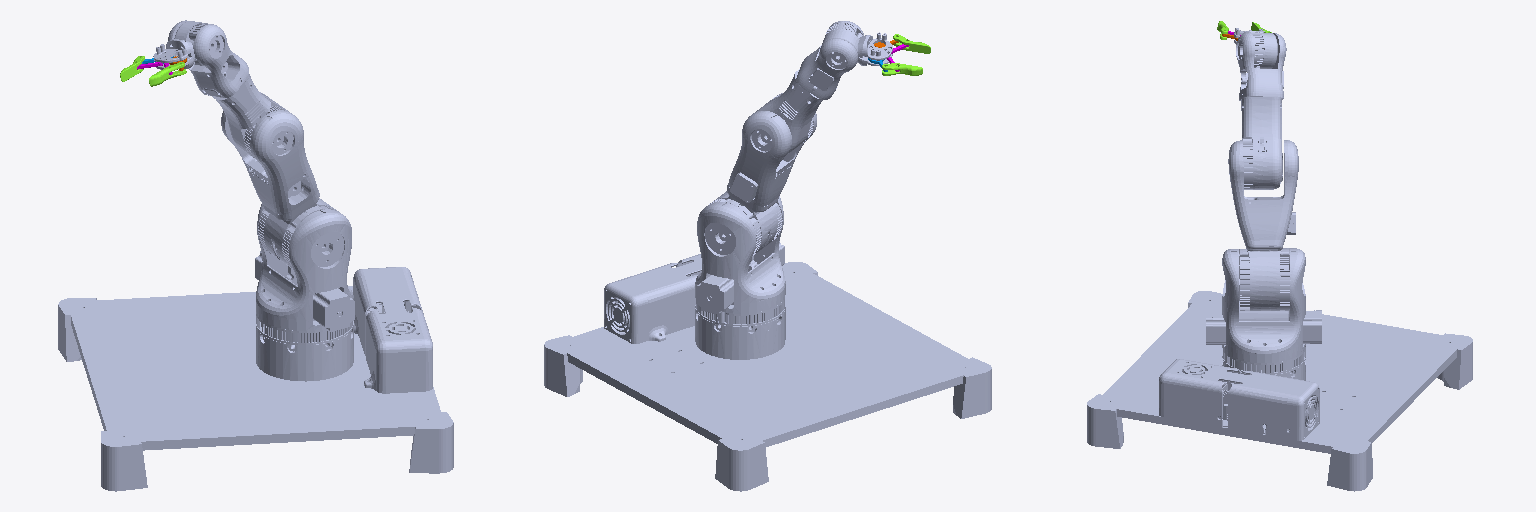
The robot description file, URDF, robot "robot_5A_urdf":
<?xml version="1.0" encoding="utf-8"?>
<!-- This URDF was automatically created by SolidWorks to URDF Exporter! Originally created by [author] ([email redacted]) 
     Commit Version: 1.6.0-4-g7f85cfe  Build Version: 1.6.7995.38578
     For more information, please see http://wiki.ros.org/sw_urdf_exporter -->
<robot
  name="robot_5A_urdf">
  <link
    name="base_link">
    <inertial>
      <origin
        xyz="-0.07796 0.1305 0.12414"
        rpy="0 0 0" />
      <mass
        value="14.597" />
      <inertia
        ixx="0.69038"
        ixy="0.055653"
        ixz="-0.0081945"
        iyy="0.48743"
        iyz="-0.025908"
        izz="0.72286" />
    </inertial>
    <visual>
      <origin
        xyz="0 0 0"
        rpy="0 0 0" />
      <geometry>
        <mesh
          filename="package://robot_5A_urdf/meshes/base_link.STL" />
      </geometry>
      <material
        name="">
        <color
          rgba="0.79216 0.81961 0.93333 1" />
      </material>
    </visual>
    <collision>
      <origin
        xyz="0 0 0"
        rpy="0 0 0" />
      <geometry>
        <mesh
          filename="package://robot_5A_urdf/meshes/base_link.STL" />
      </geometry>
    </collision>
  </link>
  <link
    name="Link_1">
    <inertial>
      <origin
        xyz="-0.037838 0.064595 0.022488"
        rpy="0 0 0" />
      <mass
        value="14.597" />
      <inertia
        ixx="0.69815"
        ixy="0.021521"
        ixz="0.016097"
        iyy="0.48743"
        iyz="-0.057492"
        izz="0.71509" />
    </inertial>
    <visual>
      <origin
        xyz="0 0 0"
        rpy="0 0 0" />
      <geometry>
        <mesh
          filename="package://robot_5A_urdf/meshes/Link_1.STL" />
      </geometry>
      <material
        name="">
        <color
          rgba="0.79216 0.81961 0.93333 1" />
      </material>
    </visual>
    <collision>
      <origin
        xyz="0 0 0"
        rpy="0 0 0" />
      <geometry>
        <mesh
          filename="package://robot_5A_urdf/meshes/Link_1.STL" />
      </geometry>
    </collision>
  </link>
  <joint
    name="Joint_1"
    type="revolute">
    <origin
      xyz="-0.035213 -0.13463 0.065903"
      rpy="1.5708 0 -0.77692" />
    <parent
      link="base_link" />
    <child
      link="Link_1" />
    <axis
      xyz="0 0 0" />
    <limit
      lower="-1.5707"
      upper="1.5708"
      effort="5"
      velocity="1" />
  </joint>
  <link
    name="Link_2">
    <inertial>
      <origin
        xyz="0.012111 -0.078827 -0.075887"
        rpy="0 0 0" />
      <mass
        value="14.597" />
      <inertia
        ixx="0.72219"
        ixy="0.018773"
        ixz="0.017352"
        iyy="0.47586"
        iyz="-0.026696"
        izz="0.70263" />
    </inertial>
    <visual>
      <origin
        xyz="0 0 0"
        rpy="0 0 0" />
      <geometry>
        <mesh
          filename="package://robot_5A_urdf/meshes/Link_2.STL" />
      </geometry>
      <material
        name="">
        <color
          rgba="0.79216 0.81961 0.93333 1" />
      </material>
    </visual>
    <collision>
      <origin
        xyz="0 0 0"
        rpy="0 0 0" />
      <geometry>
        <mesh
          filename="package://robot_5A_urdf/meshes/Link_2.STL" />
      </geometry>
    </collision>
  </link>
  <joint
    name="Joint_2"
    type="revolute">
    <origin
      xyz="0 0.1655 0"
      rpy="2.7723 0.7558 -3.1416" />
    <parent
      link="Link_1" />
    <child
      link="Link_2" />
    <axis
      xyz="1 0 0" />
    <limit
      lower="-1.5707"
      upper="1.5707"
      effort="5"
      velocity="1" />
  </joint>
  <link
    name="Link_3">
    <inertial>
      <origin
        xyz="0.27499 -0.012111 0.14181"
        rpy="0 0 0" />
      <mass
        value="14.597" />
      <inertia
        ixx="0.49925"
        ixy="0.014358"
        ixz="-0.07396"
        iyy="0.72219"
        iyz="0.021152"
        izz="0.67923" />
    </inertial>
    <visual>
      <origin
        xyz="0 0 0"
        rpy="0 0 0" />
      <geometry>
        <mesh
          filename="package://robot_5A_urdf/meshes/Link_3.STL" />
      </geometry>
      <material
        name="">
        <color
          rgba="0.79216 0.81961 0.93333 1" />
      </material>
    </visual>
    <collision>
      <origin
        xyz="0 0 0"
        rpy="0 0 0" />
      <geometry>
        <mesh
          filename="package://robot_5A_urdf/meshes/Link_3.STL" />
      </geometry>
    </collision>
  </link>
  <joint
    name="Joint_3"
    type="revolute">
    <origin
      xyz="0 0.22112 0"
      rpy="3.1416 -0.22834 -1.5708" />
    <parent
      link="Link_2" />
    <child
      link="Link_3" />
    <axis
      xyz="0 1 0" />
    <limit
      lower="-1.5707"
      upper="1.5707"
      effort="5"
      velocity="1" />
  </joint>
  <link
    name="Link_4">
    <inertial>
      <origin
        xyz="0.12909 -0.44281 0.060383"
        rpy="0 0 0" />
      <mass
        value="14.597" />
      <inertia
        ixx="0.69721"
        ixy="0.065001"
        ixz="-0.02994"
        iyy="0.49925"
        iyz="0.038093"
        izz="0.70421" />
    </inertial>
    <visual>
      <origin
        xyz="0 0 0"
        rpy="0 0 0" />
      <geometry>
        <mesh
          filename="package://robot_5A_urdf/meshes/Link_4.STL" />
      </geometry>
      <material
        name="">
        <color
          rgba="0.79216 0.81961 0.93333 1" />
      </material>
    </visual>
    <collision>
      <origin
        xyz="0 0 0"
        rpy="0 0 0" />
      <geometry>
        <mesh
          filename="package://robot_5A_urdf/meshes/Link_4.STL" />
      </geometry>
    </collision>
  </link>
  <joint
    name="Joint_4"
    type="revolute">
    <origin
      xyz="-0.16783 0.002 0"
      rpy="0 -1.2325 1.5708" />
    <parent
      link="Link_3" />
    <child
      link="Link_4" />
    <axis
      xyz="0 1 0" />
    <limit
      lower="-1.5707"
      upper="1.5707"
      effort="5"
      velocity="1" />
  </joint>
  <link
    name="Link_5">
    <inertial>
      <origin
        xyz="0.49567 0.060383 0.11764"
        rpy="0 0 0" />
      <mass
        value="14.597" />
      <inertia
        ixx="0.48904"
        ixy="-0.047694"
        ixz="-0.045826"
        iyy="0.70421"
        iyz="0.0085269"
        izz="0.70742" />
    </inertial>
    <visual>
      <origin
        xyz="0 0 0"
        rpy="0 0 0" />
      <geometry>
        <mesh
          filename="package://robot_5A_urdf/meshes/Link_5.STL" />
      </geometry>
      <material
        name="">
        <color
          rgba="0.79216 0.81961 0.93333 1" />
      </material>
    </visual>
    <collision>
      <origin
        xyz="0 0 0"
        rpy="0 0 0" />
      <geometry>
        <mesh
          filename="package://robot_5A_urdf/meshes/Link_5.STL" />
      </geometry>
    </collision>
  </link>
  <joint
    name="joint_5"
    type="revolute">
    <origin
      xyz="0 0.05 0"
      rpy="1.5708 0 -1.0816" />
    <parent
      link="Link_4" />
    <child
      link="Link_5" />
    <axis
      xyz="0 1 0" />
    <limit
      lower="-1.5707"
      upper="1.5707"
      effort="5"
      velocity="1" />
  </joint>
  <link
    name="Gripper_Arm_Left">
    <inertial>
      <origin
        xyz="-0.0065946 -0.0031254 -0.00039536"
        rpy="0 0 0" />
      <mass
        value="0.0047829" />
      <inertia
        ixx="2.2361E-07"
        ixy="-1.7848E-12"
        ixz="1.6499E-08"
        iyy="1.128E-06"
        iyz="-1.578E-12"
        izz="9.324E-07" />
    </inertial>
    <visual>
      <origin
        xyz="0 0 0"
        rpy="0 0 0" />
      <geometry>
        <mesh
          filename="package://robot_5A_urdf/meshes/Gripper_Arm_Left.STL" />
      </geometry>
      <material
        name="">
        <color
          rgba="0.9098 0.44314 0.031373 1" />
      </material>
    </visual>
    <collision>
      <origin
        xyz="0 0 0"
        rpy="0 0 0" />
      <geometry>
        <mesh
          filename="package://robot_5A_urdf/meshes/Gripper_Arm_Left.STL" />
      </geometry>
    </collision>
  </link>
  <joint
    name="Joint_Gripper_Arm_Left_Link_5"
    type="revolute">
    <origin
      xyz="0 -0.015 -0.067196"
      rpy="3.1416 -0.66955 1.5708" />
    <parent
      link="Link_5" />
    <child
      link="Gripper_Arm_Left" />
    <axis
      xyz="0 1 0" />
    <limit
      lower="0"
      upper="1.5707"
      effort="5"
      velocity="1" />
  </joint>
  <link
    name="Gripper_Tip_Left">
    <inertial>
      <origin
        xyz="0.0383341002036028 0.00900249975316736 -0.00598336194508436"
        rpy="0 0 0" />
      <mass
        value="0.0102851052587157" />
      <inertia
        ixx="5.52789256250497E-07"
        ixy="4.41064860085597E-10"
        ixz="-6.01969117683768E-07"
        iyy="3.92679929951353E-06"
        iyz="1.00435248420255E-10"
        izz="3.99672165232852E-06" />
    </inertial>
    <visual>
      <origin
        xyz="0 0 0"
        rpy="0 0 0" />
      <geometry>
        <mesh
          filename="package://robot_5A_urdf/meshes/Gripper_Tip_Left.STL" />
      </geometry>
      <material
        name="">
        <color
          rgba="0.6 1 0.27843137254902 1" />
      </material>
    </visual>
    <collision>
      <origin
        xyz="0 0 0"
        rpy="0 0 0" />
      <geometry>
        <mesh
          filename="package://robot_5A_urdf/meshes/Gripper_Tip_Left.STL" />
      </geometry>
    </collision>
  </link>
  <joint
    name="Joint_Gripper_Tip_Left_Gripper_Arm_Left"
    type="revolute">
    <origin
      xyz="-0.023593 0.0056245 0.00020105"
      rpy="0 -0.90125 -3.1416" />
    <parent
      link="Gripper_Arm_Left" />
    <child
      link="Gripper_Tip_Left" />
    <axis
      xyz="0 0 0" />
    <limit
      lower="0"
      upper="1.3"
      effort="5"
      velocity="1" />
  </joint>
  <link
    name="Gripper_Arm_Right">
    <inertial>
      <origin
        xyz="-0.00645261625161411 -0.00312545941778686 0.000406641758048998"
        rpy="0 0 0" />
      <mass
        value="0.00490513551489758" />
      <inertia
        ixx="2.24938996412318E-07"
        ixy="4.32034132283231E-13"
        ixz="-1.91770002858003E-08"
        iyy="1.1349900336246E-06"
        iyz="2.49964766983246E-15"
        izz="9.38746019151626E-07" />
    </inertial>
    <visual>
      <origin
        xyz="0 0 0"
        rpy="0 0 0" />
      <geometry>
        <mesh
          filename="package://robot_5A_urdf/meshes/Gripper_Arm_Right.STL" />
      </geometry>
      <material
        name="">
        <color
          rgba="0.0588235294117647 0.647058823529412 1 1" />
      </material>
    </visual>
    <collision>
      <origin
        xyz="0 0 0"
        rpy="0 0 0" />
      <geometry>
        <mesh
          filename="package://robot_5A_urdf/meshes/Gripper_Arm_Right.STL" />
      </geometry>
    </collision>
  </link>
  <joint
    name="Joint_Gripper_Arm_Right_Link_5"
    type="revolute">
    <origin
      xyz="0 0.013 -0.067196"
      rpy="0 -0.65479 -1.5708" />
    <parent
      link="Link_5" />
    <child
      link="Gripper_Arm_Right" />
    <axis
      xyz="0 1 0" />
    <limit
      lower="-1.5707"
      upper="0"
      effort="5"
      velocity="1" />
  </joint>
  <link
    name="Gripper_Tip_Right">
    <inertial>
      <origin
        xyz="0.0383339490623017 0.00899762411695593 -0.00598346536063252"
        rpy="0 0 0" />
      <mass
        value="0.0102852777939132" />
      <inertia
        ixx="5.52796922266127E-07"
        ixy="-4.20318823311613E-10"
        ixz="-6.01977066358356E-07"
        iyy="3.92681636764725E-06"
        iyz="-7.27543076467185E-11"
        izz="3.99674023370761E-06" />
    </inertial>
    <visual>
      <origin
        xyz="0 0 0"
        rpy="0 0 0" />
      <geometry>
        <mesh
          filename="package://robot_5A_urdf/meshes/Gripper_Tip_Right.STL" />
      </geometry>
      <material
        name="">
        <color
          rgba="0.6 1 0.27843137254902 1" />
      </material>
    </visual>
    <collision>
      <origin
        xyz="0 0 0"
        rpy="0 0 0" />
      <geometry>
        <mesh
          filename="package://robot_5A_urdf/meshes/Gripper_Tip_Right.STL" />
      </geometry>
    </collision>
  </link>
  <joint
    name="Joint_Gripper_Tip_Right_Gripper_Arm_Right"
    type="revolute">
    <origin
      xyz="-0.023592 -0.012375 4.1137E-05"
      rpy="3.1416 0.91601 3.1416" />
    <parent
      link="Gripper_Arm_Right" />
    <child
      link="Gripper_Tip_Right" />
    <axis
      xyz="0 0 0" />
    <limit
      lower="-1.5"
      upper="0"
      effort="5"
      velocity="1" />
  </joint>
  <link
    name="Gripper_Pivot_Left">
    <inertial>
      <origin
        xyz="-0.0464390605773698 0.0031254536455454 -0.0123465860611635"
        rpy="0 0 0" />
      <mass
        value="0.00163752344803861" />
      <inertia
        ixx="1.03008128202862E-08"
        ixy="-8.37520370209941E-23"
        ixz="-4.46677530778635E-22"
        iyy="3.04663146253248E-07"
        iyz="-3.80503081774393E-23"
        izz="3.03761488536761E-07" />
    </inertial>
    <visual>
      <origin
        xyz="0 0 0"
        rpy="0 0 0" />
      <geometry>
        <mesh
          filename="package://robot_5A_urdf/meshes/Gripper_Pivot_Left.STL" />
      </geometry>
      <material
        name="">
        <color
          rgba="0.949019607843137 0 0.968627450980392 1" />
      </material>
    </visual>
    <collision>
      <origin
        xyz="0 0 0"
        rpy="0 0 0" />
      <geometry>
        <mesh
          filename="package://robot_5A_urdf/meshes/Gripper_Pivot_Left.STL" />
      </geometry>
    </collision>
  </link>
  <joint
    name="Joint_Gripper_Pivot_Left_Link_5"
    type="revolute">
    <origin
      xyz="0 0.0050682 -0.061106"
      rpy="0 -0.66955 1.5708" />
    <parent
      link="Link_5" />
    <child
      link="Gripper_Pivot_Left" />
    <axis
      xyz="0 1 0" />
    <limit
      lower="-1.5707"
      upper="1.5707"
      effort="5"
      velocity="1" />
  </joint>
  <link
    name="Gripper_Pivot_Right">
    <inertial>
      <origin
        xyz="-0.0266275838308962 0.00312545364551886 0.0201264783945177"
        rpy="0 0 0" />
      <mass
        value="0.00163752344803858" />
      <inertia
        ixx="1.03008128202859E-08"
        ixy="-2.79690444619492E-22"
        ixz="1.30280946477102E-22"
        iyy="3.04663146253246E-07"
        iyz="-5.9557004103818E-23"
        izz="3.03761488536758E-07" />
    </inertial>
    <visual>
      <origin
        xyz="0 0 0"
        rpy="0 0 0" />
      <geometry>
        <mesh
          filename="package://robot_5A_urdf/meshes/Gripper_Pivot_Right.STL" />
      </geometry>
      <material
        name="">
        <color
          rgba="0.949019607843137 0 0.968627450980392 1" />
      </material>
    </visual>
    <collision>
      <origin
        xyz="0 0 0"
        rpy="0 0 0" />
      <geometry>
        <mesh
          filename="package://robot_5A_urdf/meshes/Gripper_Pivot_Right.STL" />
      </geometry>
    </collision>
  </link>
  <joint
    name="Joint_Gripper_Pivot_Right_Link_5"
    type="revolute">
    <origin
      xyz="0 0.013 -0.067196"
      rpy="3.1416 -0.65479 -1.5708" />
    <parent
      link="Link_5" />
    <child
      link="Gripper_Pivot_Right" />
    <axis
      xyz="0 1 0" />
    <limit
      lower="-1.5707"
      upper="1.5707"
      effort="5"
      velocity="1" />
  </joint>
</robot>

--- What the picture shows (computed from the rendered views, not written in the file) ---
The picture shows the robot from 3 angles, left to right: view 1: azimuth 30°, elevation 25°; view 2: azimuth 150°, elevation 25°; view 3: azimuth 270°, elevation 25°; orthographic projection.
Robot: robot_5A_urdf — 12 links, 11 joints (11 revolute); root link base_link; default pose: every joint at zero.
Visible links, largest first — view 1: base_link, Link_1, Link_2, Link_4, Link_3, Link_5; view 2: base_link, Link_1, Link_2, Link_4, Link_3, Link_5; view 3: base_link, Link_1, Link_2, Link_3, Link_4, Link_5.
Boxes of the visible links, bbox=[...] form: base_link: bbox=[58, 267, 453, 491]; Link_1: bbox=[255, 204, 354, 344]; Link_2: bbox=[221, 92, 338, 268]; Link_4: bbox=[168, 20, 248, 97]; Link_3: bbox=[212, 74, 288, 158]; Link_5: bbox=[153, 21, 207, 69]; base_link: bbox=[544, 254, 991, 491]; Link_1: bbox=[695, 196, 785, 326]; Link_2: bbox=[709, 93, 816, 255]; Link_4: bbox=[796, 21, 863, 99]; Link_3: bbox=[756, 69, 836, 153]; Link_5: bbox=[822, 23, 892, 65]; base_link: bbox=[1087, 291, 1472, 491]; Link_1: bbox=[1206, 248, 1321, 374]; Link_2: bbox=[1228, 140, 1298, 310]; Link_3: bbox=[1241, 97, 1282, 189]; Link_4: bbox=[1236, 32, 1286, 100]; Link_5: bbox=[1234, 28, 1277, 68].
Bounding box of the posed robot: 0.7425 × 0.7425 × 0.7402 m (x, y, z).
12 mesh visuals loaded from 12 distinct referenced files (12 binary STL).